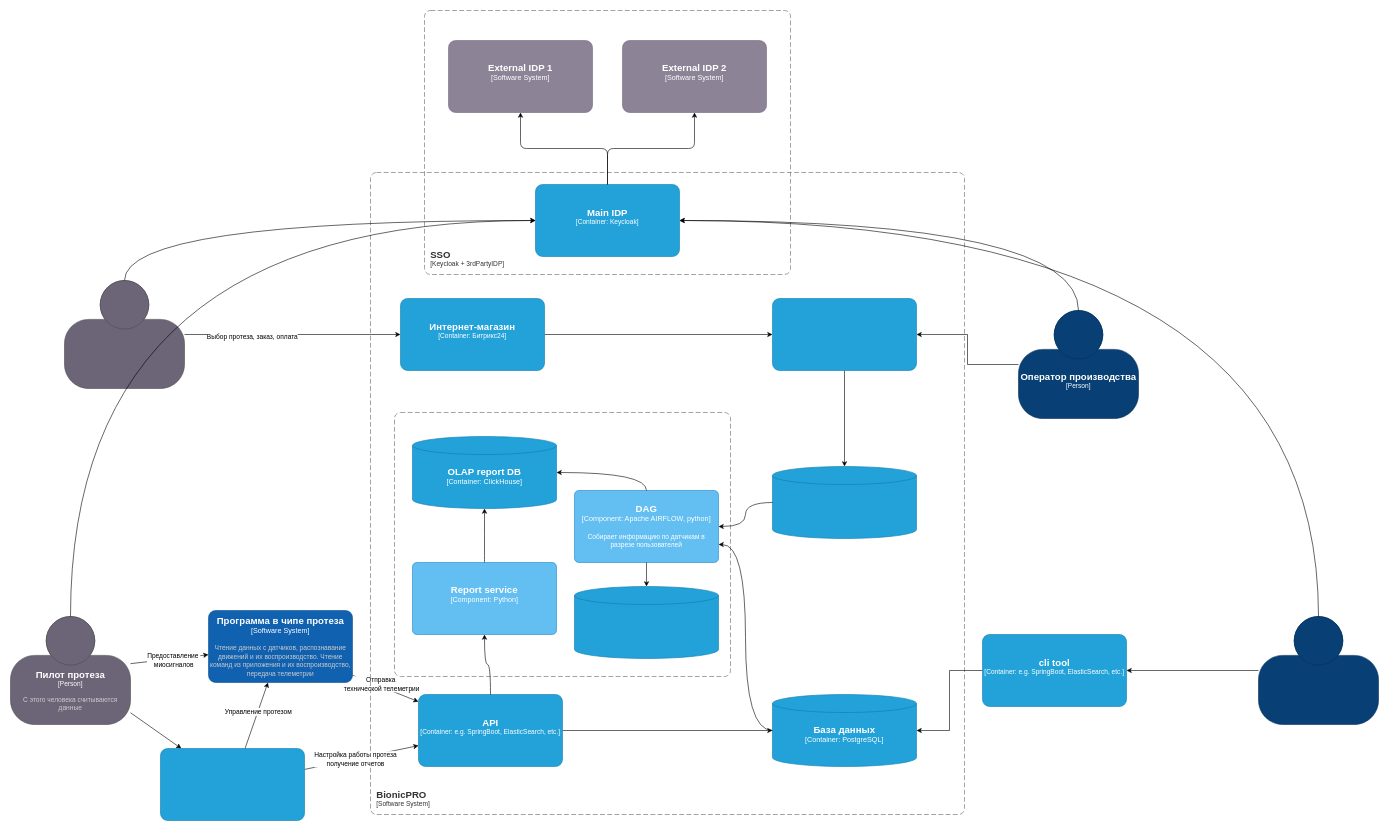
The diagram is 1389 pixels wide and 831 high, and some of its shapes have lost their labels. Here are the shapes that lost their labels. From the top down, the box of each, then its label:
(64, 280, 184, 388): Покупатель протеза [Person]
(772, 298, 916, 370): CRM [Container: Битрикс24]
(772, 466, 916, 538): CRM DB [Container: e.g. Oracle Database 12]
(394, 412, 730, 676): Report System [Container]
(574, 586, 718, 658): Airflow DB [Container: Postgres] база с метаданными для Airflow
(1258, 616, 1378, 724): ML-инженер [Person]
(160, 748, 304, 820): Приложение для донастройки протеза [Container: iOD, Android]
